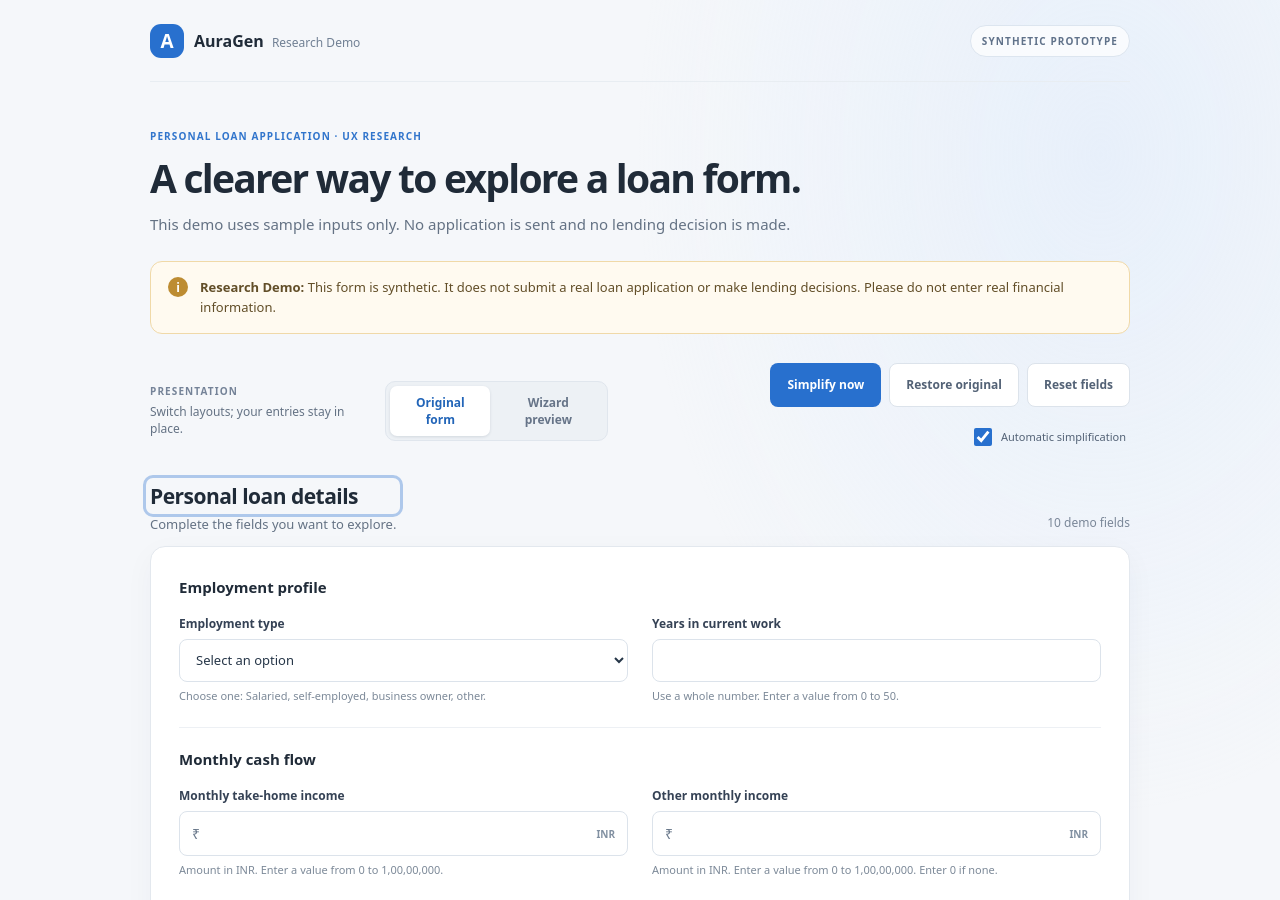
synthetic personal loan form › validates the current wizard section before advancing
Click the button "Wizard preview" at (548, 410), box [493, 386, 603, 436]
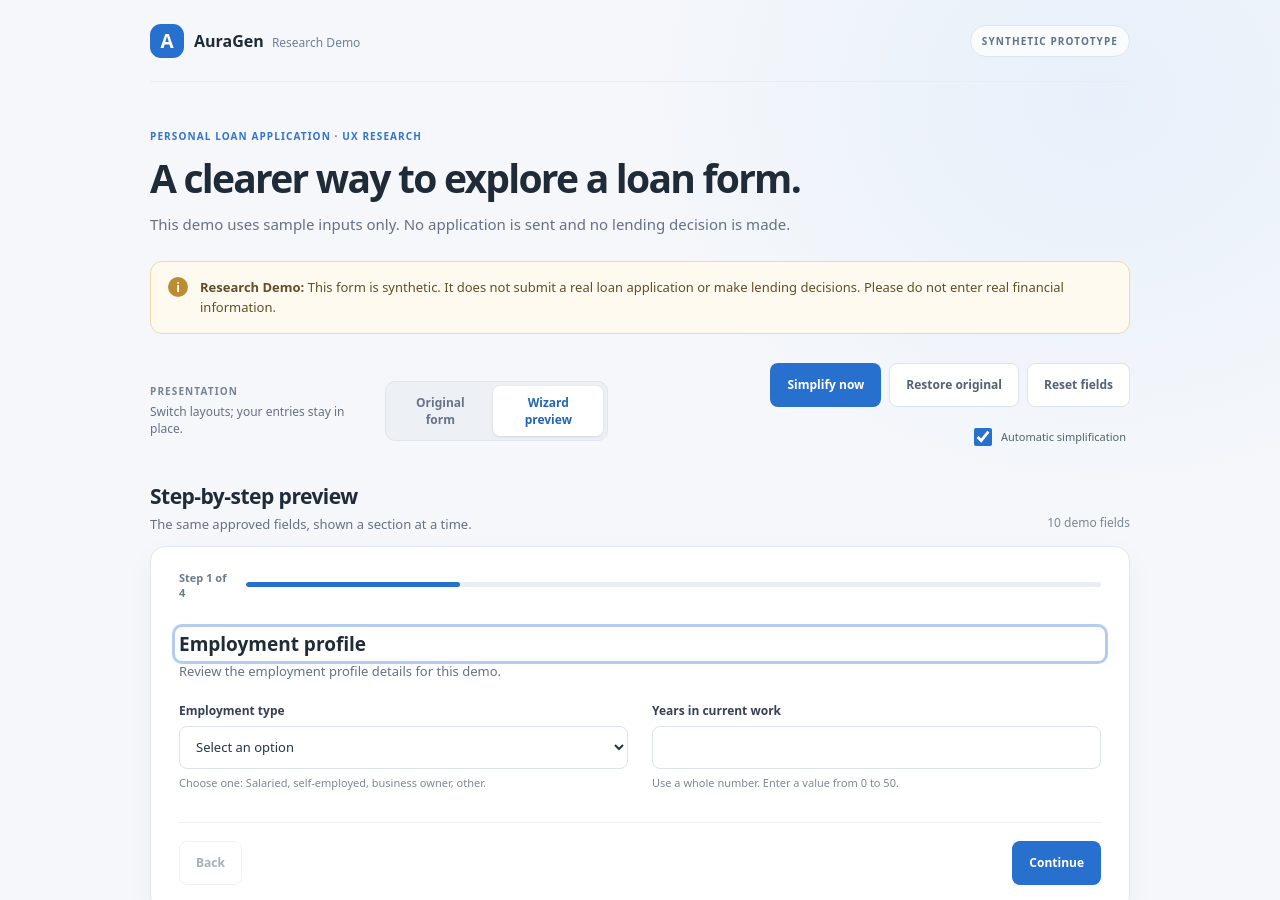
Type "51" into the number field labelled "Years in current work" at (876, 747), box [652, 726, 1101, 768]
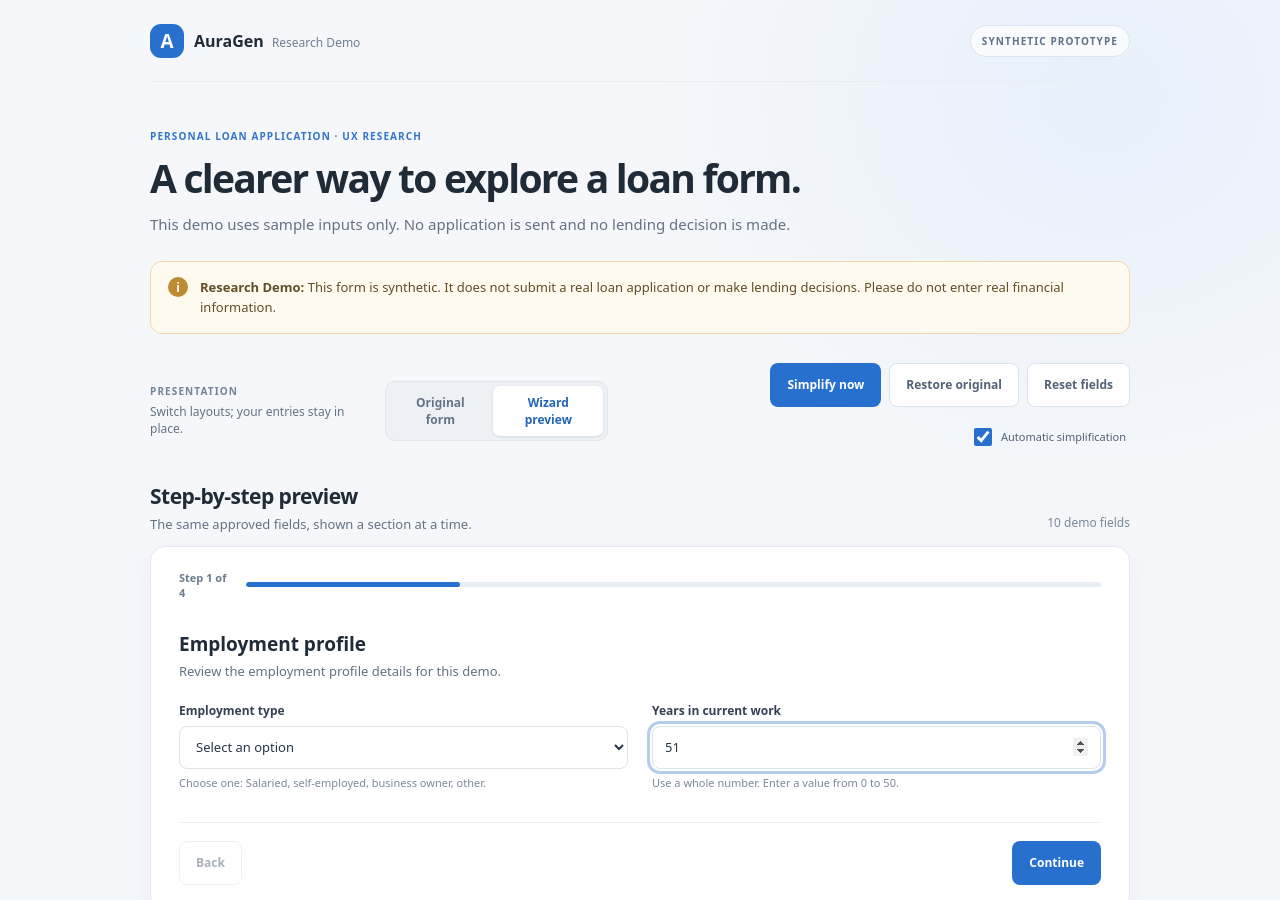
Click the button "Continue" at (1057, 862), box [1012, 840, 1101, 884]
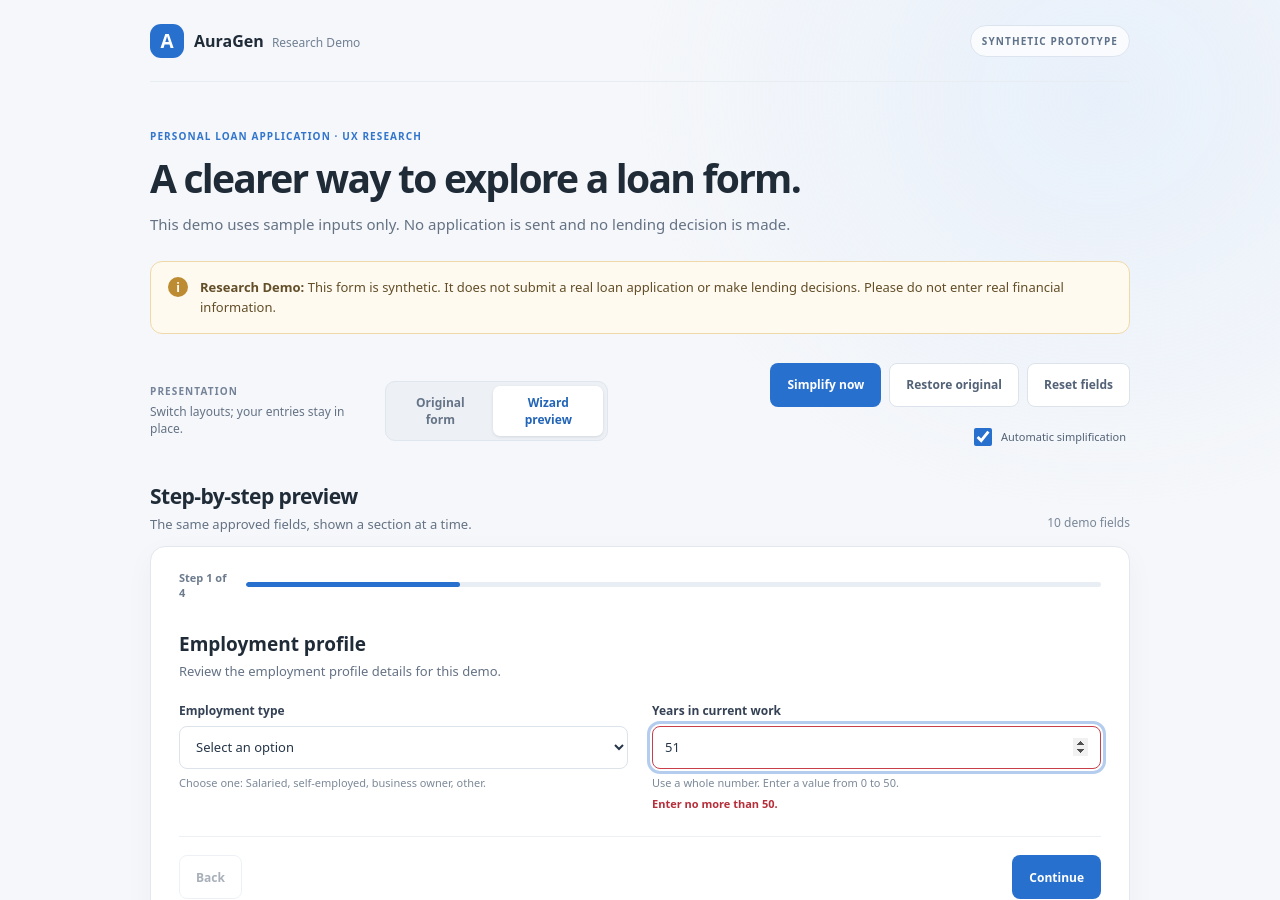
Now the text "Enter no more than 50." is shown, box [652, 796, 778, 812]
